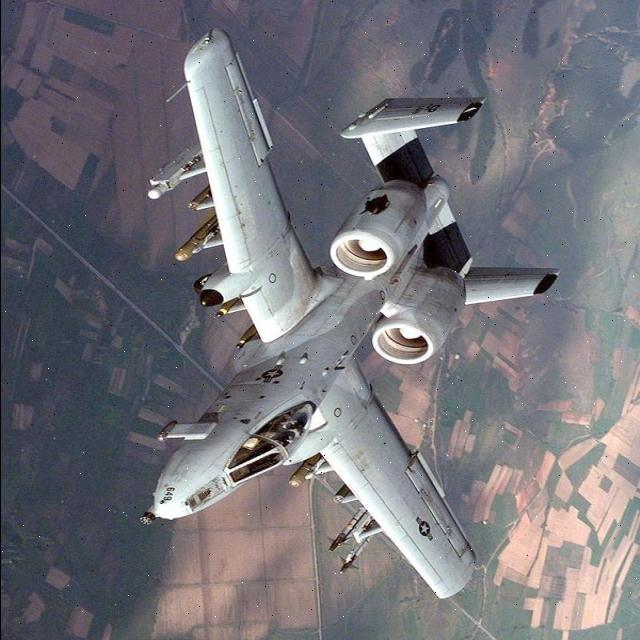A10: (93, 4, 596, 604)
